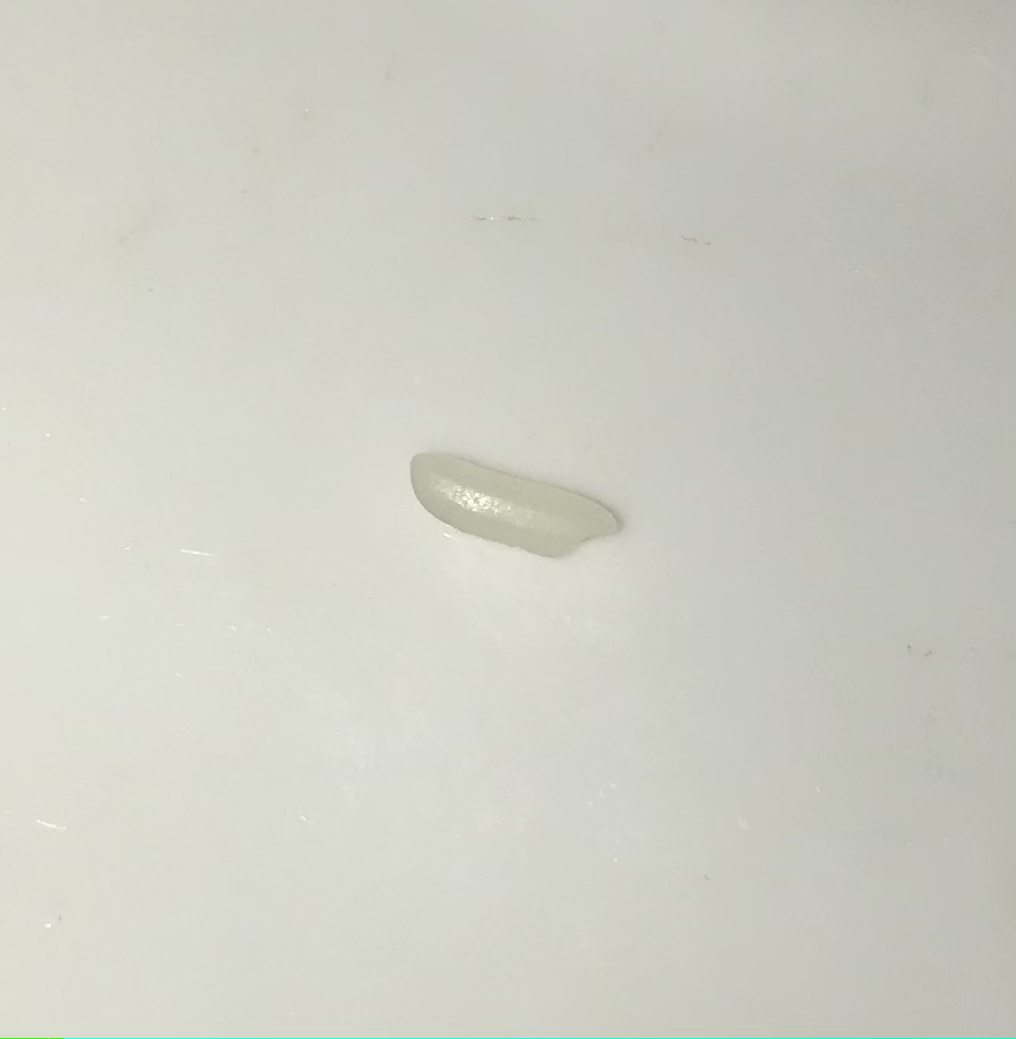Gao Ngoc Troi: (382, 427, 641, 576)
